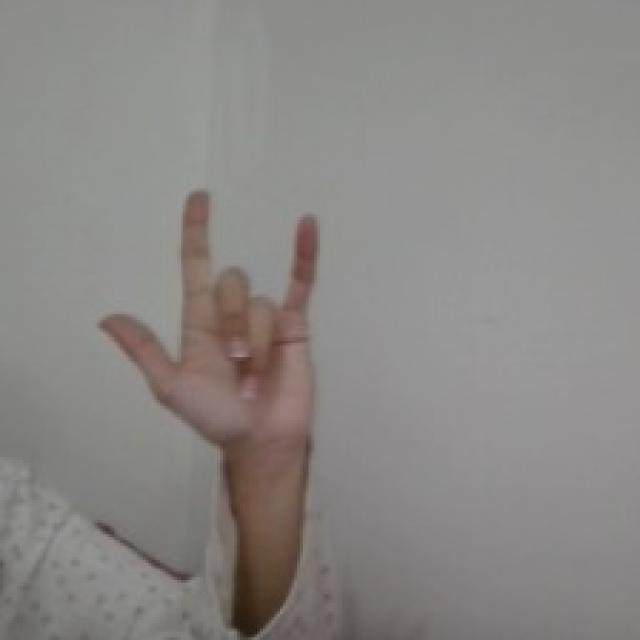love: (92, 184, 329, 454)
